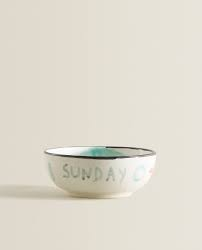bowl: (41, 141, 160, 203)
